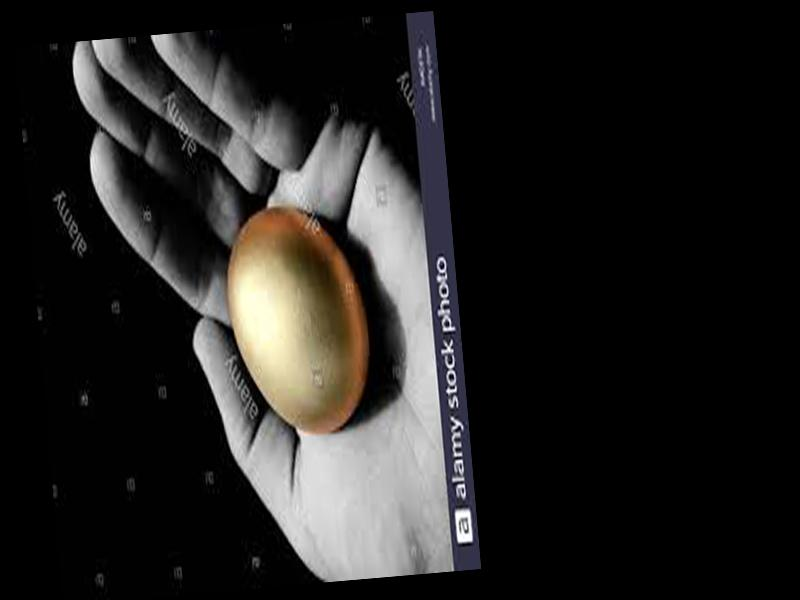Eggs: (220, 199, 373, 438)
